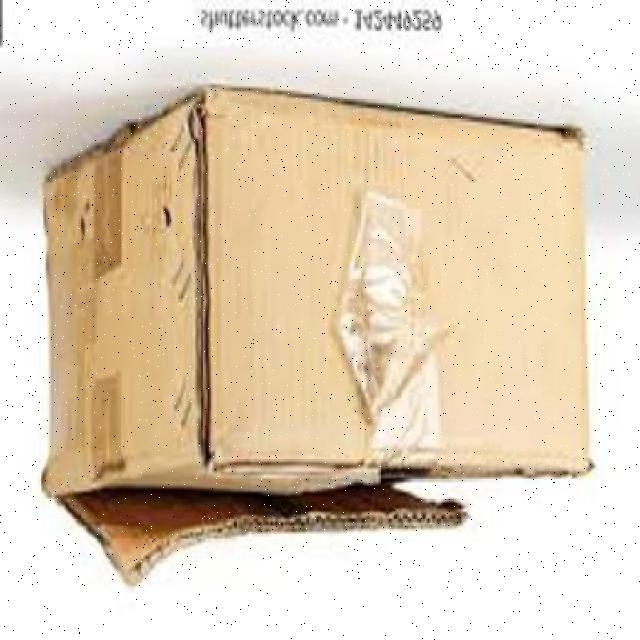defect: (39, 81, 603, 584)
